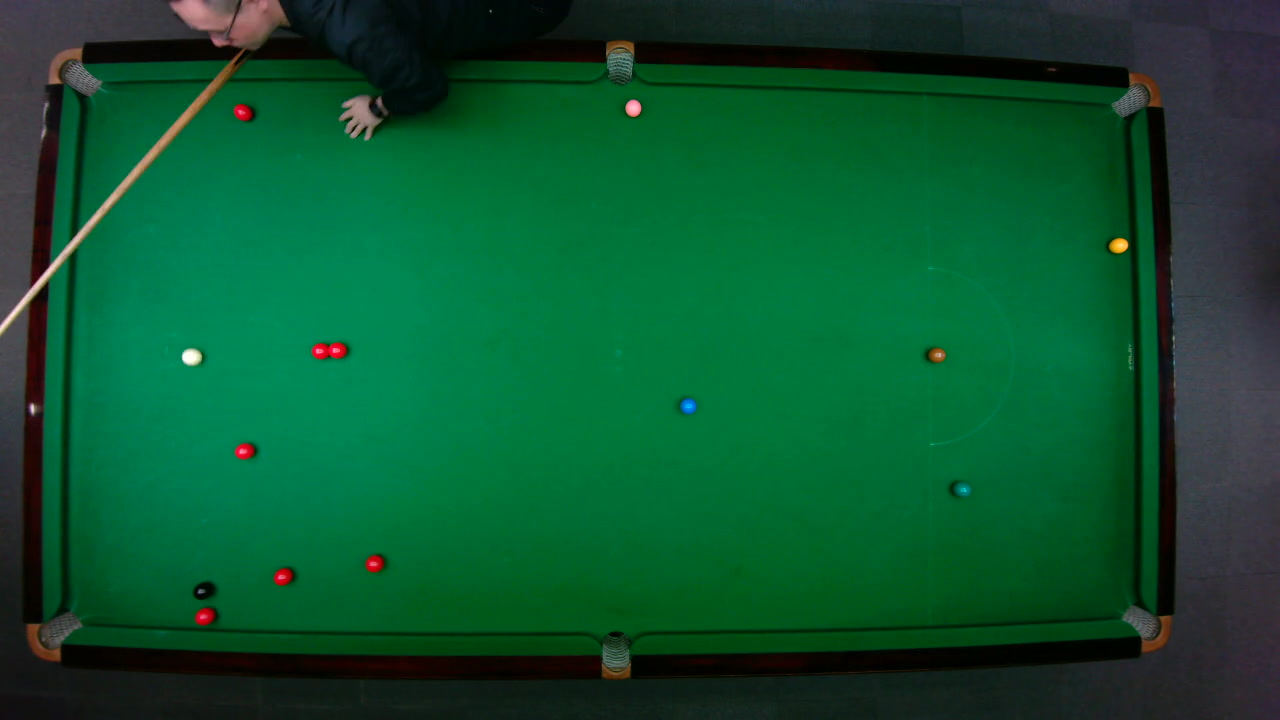bag: (24, 609, 83, 661), (45, 46, 103, 96), (1119, 603, 1172, 652), (1109, 71, 1162, 118), (601, 629, 629, 680), (605, 38, 633, 85)
black: (192, 581, 212, 600)
blue: (678, 397, 697, 414)
brown: (926, 346, 946, 362)
green: (950, 480, 972, 497)
pink: (623, 98, 642, 117)
red: (363, 552, 384, 573), (272, 566, 294, 586), (232, 441, 255, 460), (324, 340, 347, 359), (194, 606, 215, 626), (232, 102, 253, 121), (310, 341, 330, 359)
white: (179, 346, 203, 366)
yellow: (1107, 236, 1129, 253)
zone: (927, 266, 1013, 446)
